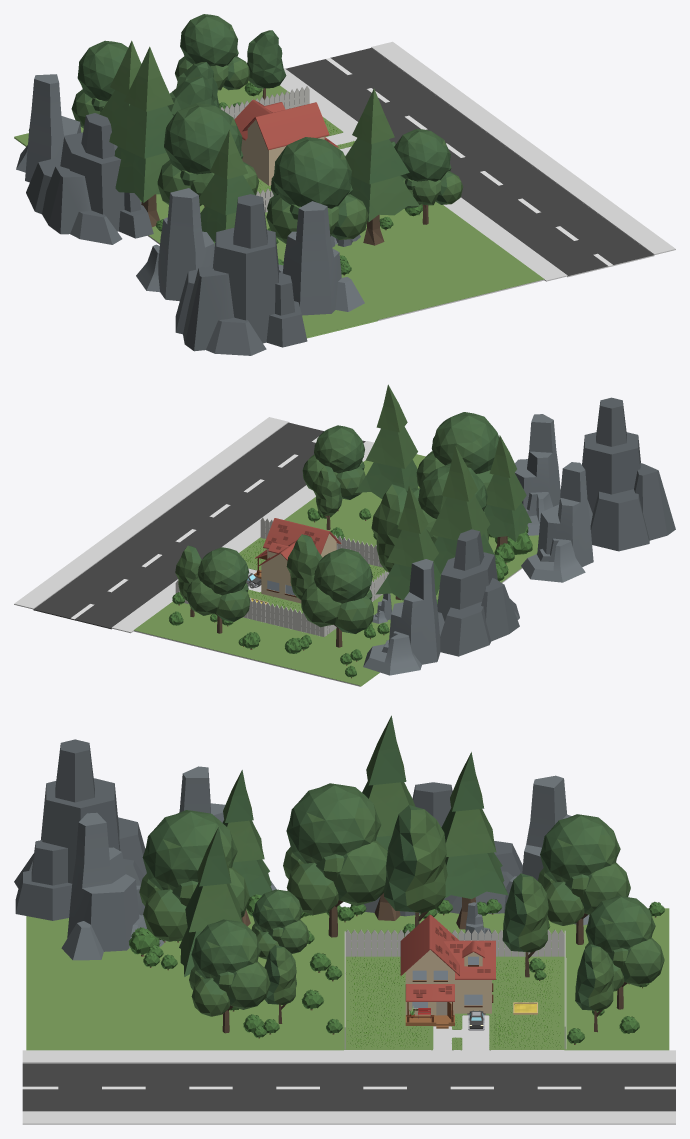
File: house13.glb
3 views of the same model, one above another, from view 1: azimuth 30°, elevation 25°; view 2: azimuth 150°, elevation 25°; view 3: azimuth 270°, elevation 25° (orthographic). The views are drawn at different scales.
Parts seen in each view (by area): view 1: road, gras, formation_stone.001, formation_stone, tree-lime.006, tree-spruce.002, formationLarge_stone.001, tree-spruce.003, tree-lime.002, formationLarge_stone.002, tree-lime.004, tree-lime (+10 smaller); view 2: road, gras, formation_stone.001, formation_stone, formationLarge_stone.002, formationLarge_stone, tree-lime.001, tree-lime, tree-spruce.003, tree-lime.006, tree-spruce.002, formationLarge_stone.001 (+12 smaller); view 3: road, gras, gras.001, tree-lime.002, formation_stone.001, formationLarge_stone.001, tree-lime.006, tree-lime.001, tree-lime.004, tree-spruce, tree-beech.002, tree-lime (+15 smaller).
Boxes of the visible parts, <box> form: road: <box>280,41,675,281</box>; gras: <box>14,81,544,338</box>; formation_stone.001: <box>175,194,307,355</box>; formation_stone: <box>26,113,153,244</box>; tree-lime.006: <box>266,137,368,243</box>; tree-spruce.002: <box>109,46,173,227</box>; formationLarge_stone.001: <box>278,201,364,315</box>; tree-spruce.003: <box>345,88,420,245</box>; tree-lime.002: <box>157,103,259,206</box>; formationLarge_stone.002: <box>136,188,214,301</box>; tree-lime.004: <box>394,129,463,224</box>; tree-lime: <box>175,14,249,90</box>; road: <box>14,417,373,633</box>; gras: <box>133,454,538,686</box>; formation_stone.001: <box>582,397,675,551</box>; formation_stone: <box>437,529,519,656</box>; formationLarge_stone.002: <box>521,462,593,582</box>; formationLarge_stone: <box>363,559,440,675</box>; tree-lime.001: <box>301,548,373,647</box>; tree-lime: <box>186,547,249,633</box>; tree-spruce.003: <box>355,384,418,498</box>; tree-lime.006: <box>416,412,499,508</box>; tree-spruce.002: <box>429,445,496,574</box>; formationLarge_stone.001: <box>514,414,560,535</box>; road: <box>22,1050,675,1124</box>; gras: <box>26,908,669,1050</box>; gras.001: <box>343,956,565,1049</box>; tree-lime.002: <box>283,783,387,937</box>; formation_stone.001: <box>14,739,146,920</box>; formationLarge_stone.001: <box>61,812,165,960</box>; tree-lime.006: <box>139,810,249,941</box>; tree-lime.001: <box>538,814,630,944</box>; tree-lime.004: <box>189,919,270,1033</box>; tree-spruce: <box>441,752,508,929</box>; tree-beech.002: <box>384,805,447,927</box>; tree-lime: <box>585,895,664,1009</box>.
Size of the model in its own units: 50.34 by 19.08 by 53.59.
47 materials, 3 textured.
